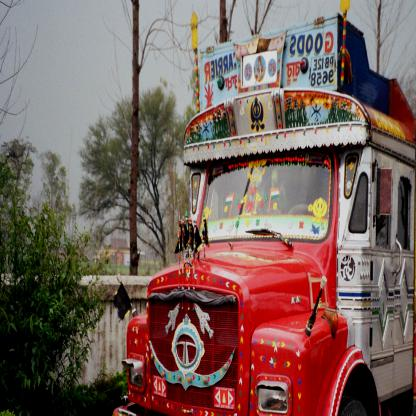truck: (109, 11, 415, 415)
